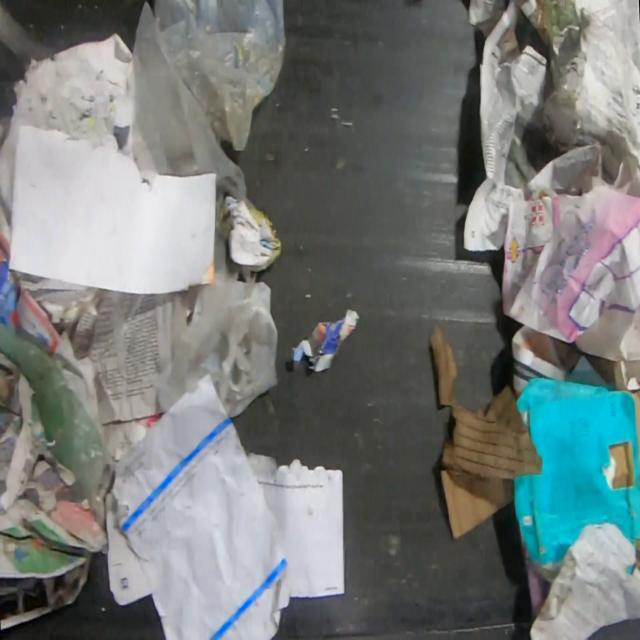cardboard: (511, 375, 640, 585), (428, 320, 540, 541), (540, 0, 640, 196)
soft_plastic: (130, 0, 288, 237), (154, 228, 280, 420), (0, 320, 112, 501)
